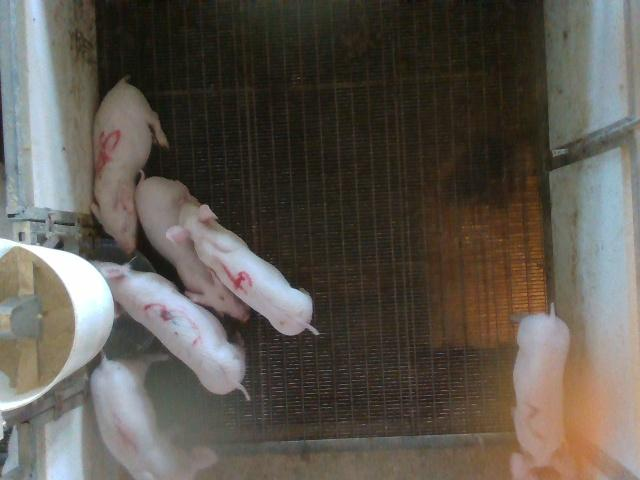pig-1: (90, 359, 176, 479)
pig-2: (511, 314, 576, 479)
pig-3: (94, 262, 249, 398)
pig-4: (166, 201, 318, 335)
pig-5: (91, 78, 169, 254)
